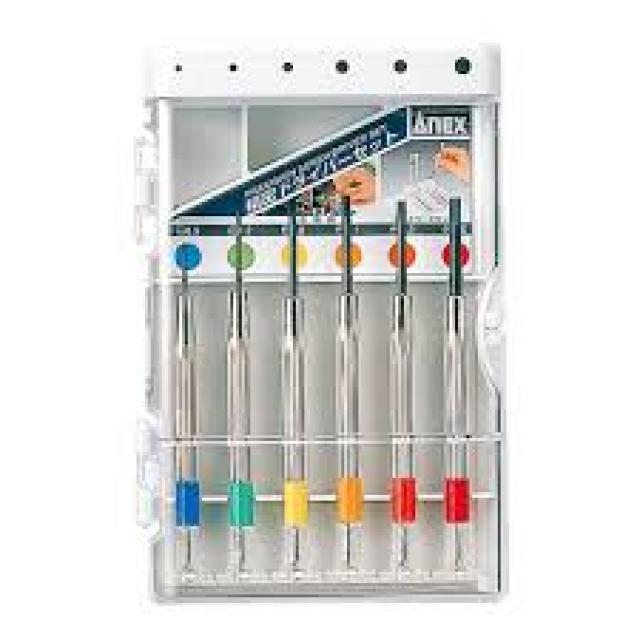screwdriver: (262, 196, 324, 586), (431, 196, 488, 586), (322, 192, 376, 587), (376, 198, 430, 588), (215, 206, 258, 582), (165, 211, 208, 584)
